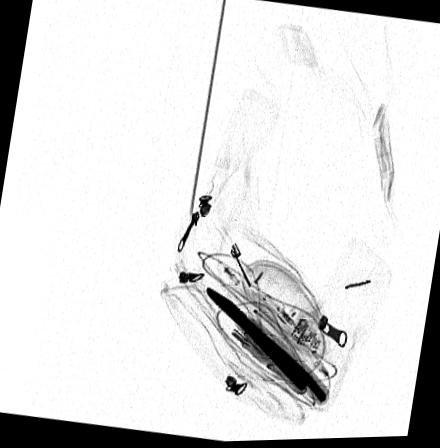Pliers: (203, 285, 330, 407)
